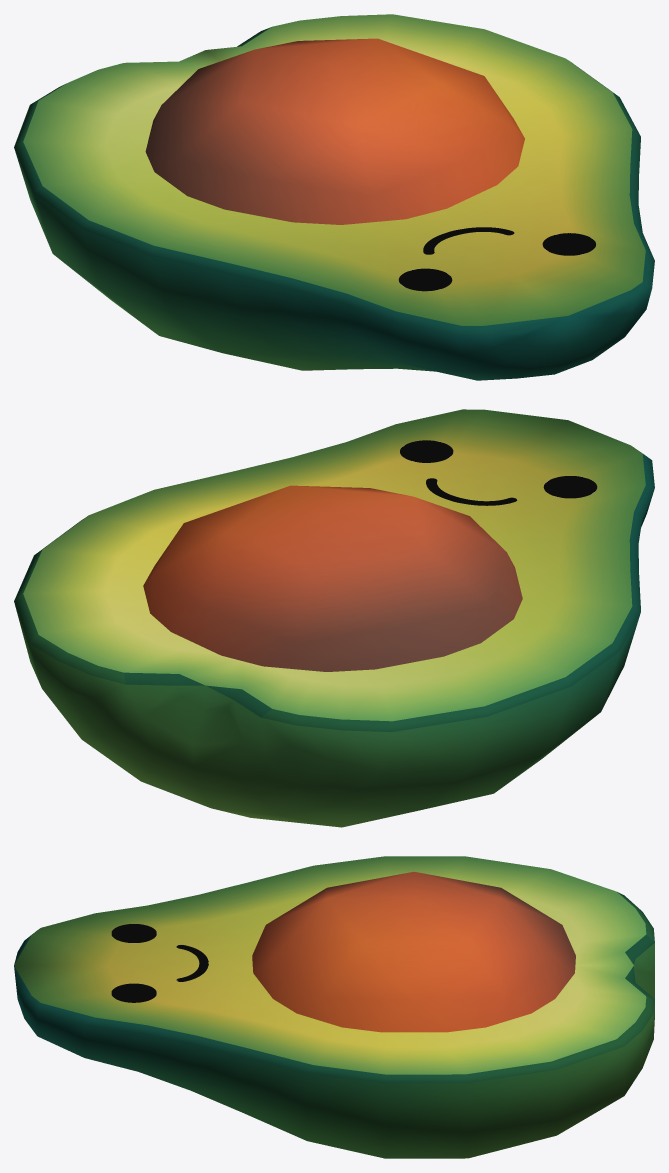
The model's file is avocado_half_smile.fbx.
3 renders of one model, top to bottom at view 1: azimuth 30°, elevation 25°; view 2: azimuth 150°, elevation 25°; view 3: azimuth 270°, elevation 25°, orthographic. The views are drawn at different scales.
Visible parts, largest first — view 1: avocado_half_smile; view 2: avocado_half_smile; view 3: avocado_half_smile.
Boxes of the visible parts, x1=… form: avocado_half_smile: x1=14, y1=14, x2=654, y2=380; avocado_half_smile: x1=14, y1=409, x2=654, y2=827; avocado_half_smile: x1=14, y1=856, x2=654, y2=1158.
Size of the model in its own units: 50.55 by 61.02 by 23.99.
Materials: 2 (2 with a texture image).
